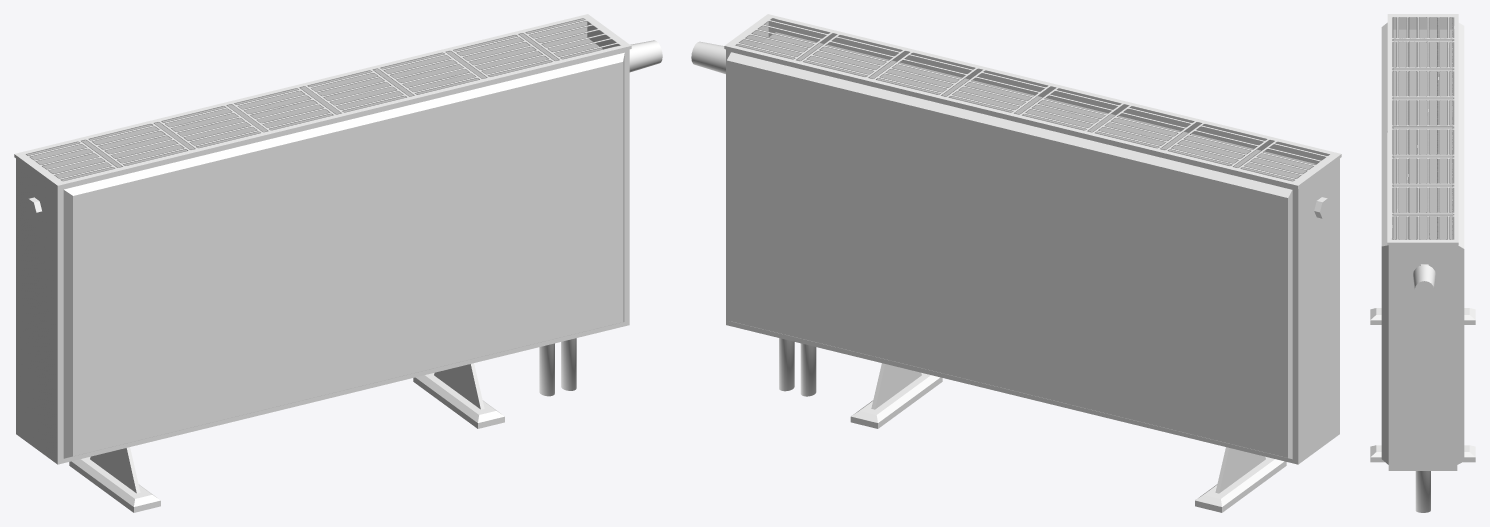
Rendered from Grzejnik.fbx.
The picture shows the model from 3 angles, left to right: view 1: azimuth 30°, elevation 25°; view 2: azimuth 150°, elevation 25°; view 3: azimuth 270°, elevation 25°; orthographic projection. The views are drawn at different scales.
Parts seen in each view (by area): view 1: radiator.003, inside; view 2: radiator.003, inside; view 3: radiator.003, inside.
Boxes of the visible parts, left/top/right/bottom form: radiator.003: left=14, top=14, right=662, bottom=512; inside: left=40, top=32, right=602, bottom=180; radiator.003: left=691, top=14, right=1341, bottom=512; inside: left=753, top=32, right=1315, bottom=180; radiator.003: left=1370, top=14, right=1475, bottom=512; inside: left=1393, top=29, right=1452, bottom=239.
Bounding box in the file's own units: 100 × 53.01 × 17.84.
